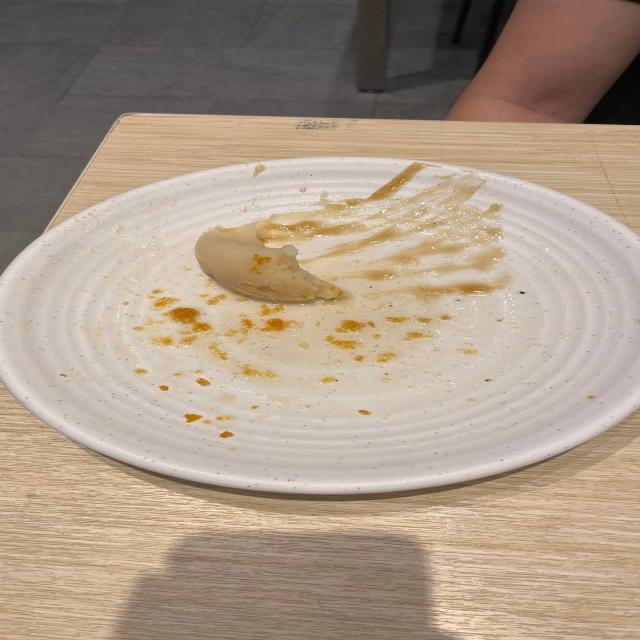Potato: (195, 224, 345, 304)
